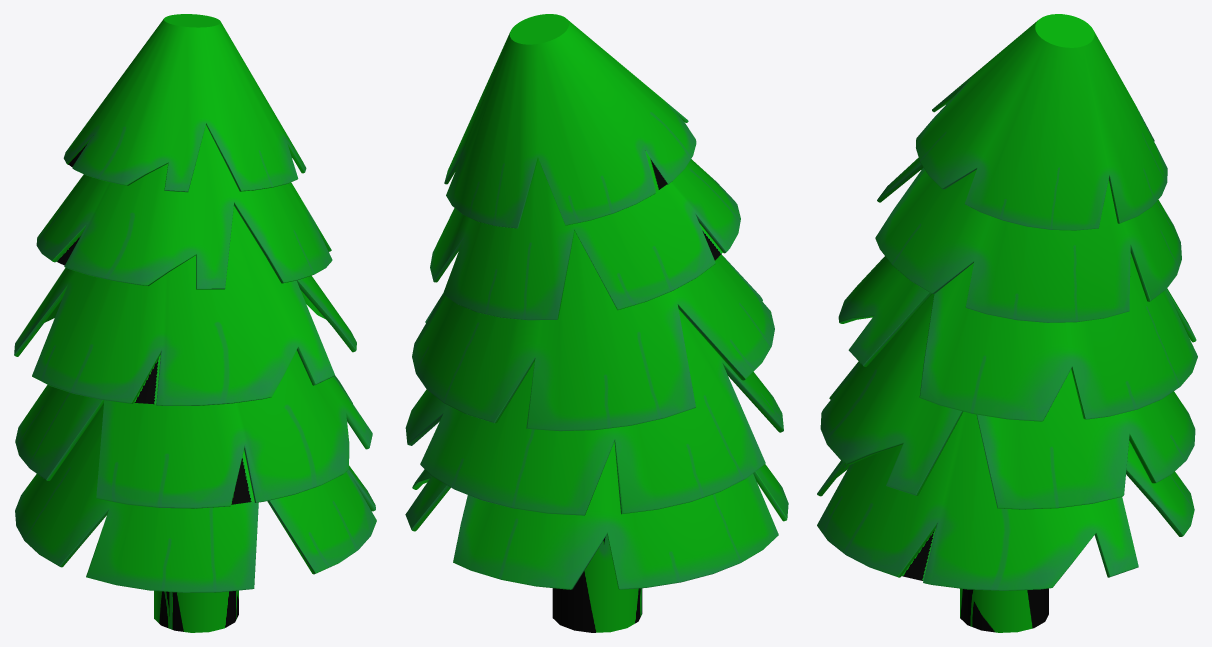
File: tree_green.obj
3 renders of one model, left to right at view 1: azimuth 30°, elevation 25°; view 2: azimuth 150°, elevation 25°; view 3: azimuth 270°, elevation 25°, orthographic. The views are drawn at different scales.
Visible parts, largest first — view 1: tree_green; view 2: tree_green; view 3: tree_green.
Part boxes in pixels (left/top/right/bottom): tree_green: left=14, top=14, right=376, bottom=632; tree_green: left=405, top=14, right=788, bottom=632; tree_green: left=817, top=14, right=1197, bottom=632.
Bounding box in the file's own units: 4.5 × 7.83 × 4.49.
1 material, 1 textured.
